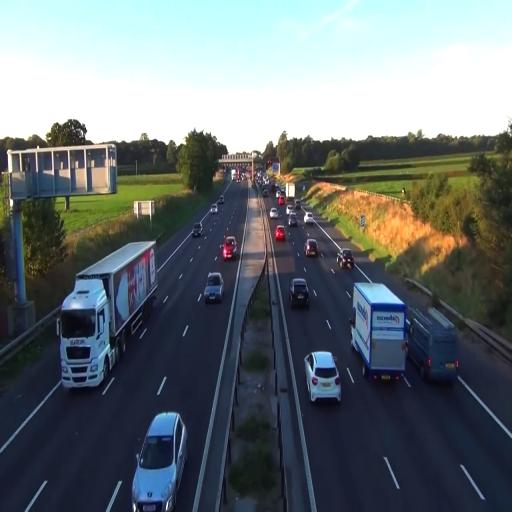vehicle: (57, 239, 159, 392), (350, 280, 408, 383), (132, 411, 188, 512), (405, 305, 460, 386), (304, 349, 342, 404), (290, 277, 310, 310), (204, 271, 224, 304), (220, 234, 238, 261), (338, 250, 354, 272), (304, 238, 319, 259), (274, 223, 286, 244), (192, 224, 202, 238)
